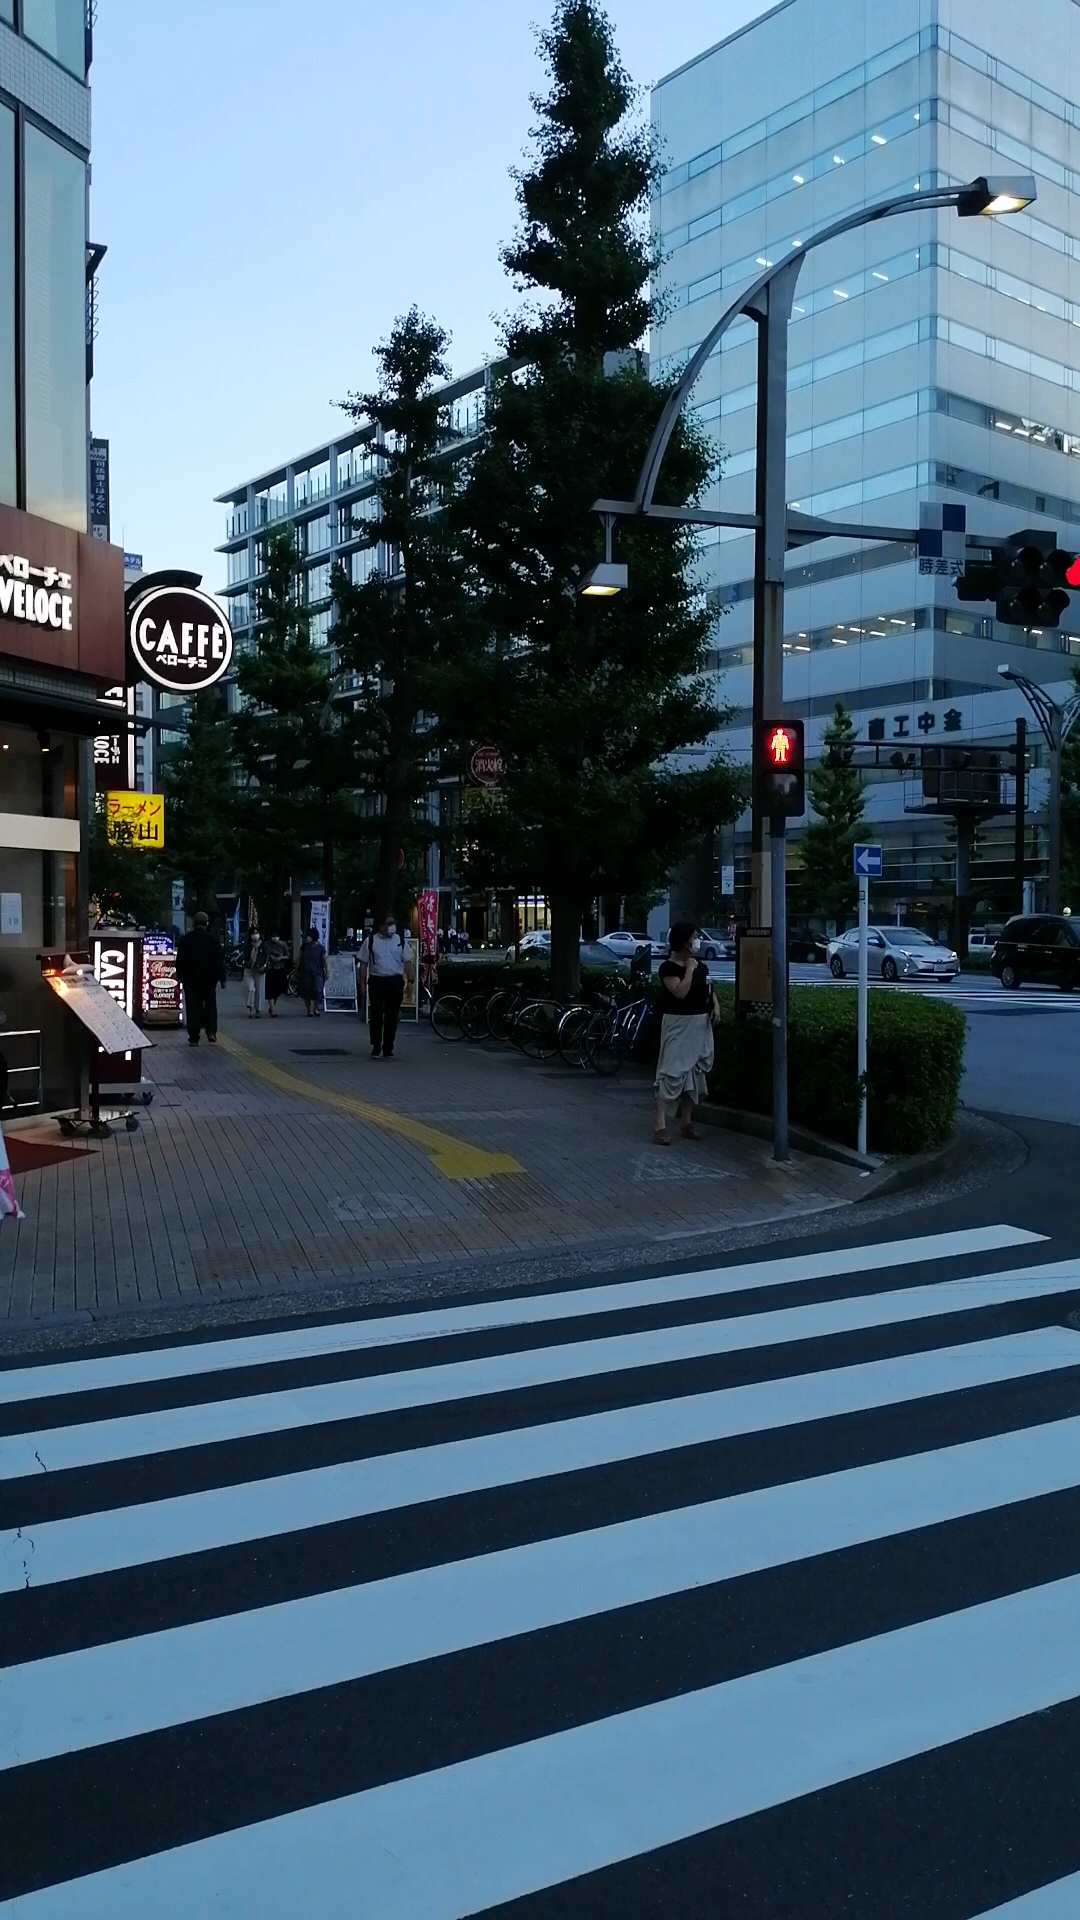red: (757, 717, 806, 815)
